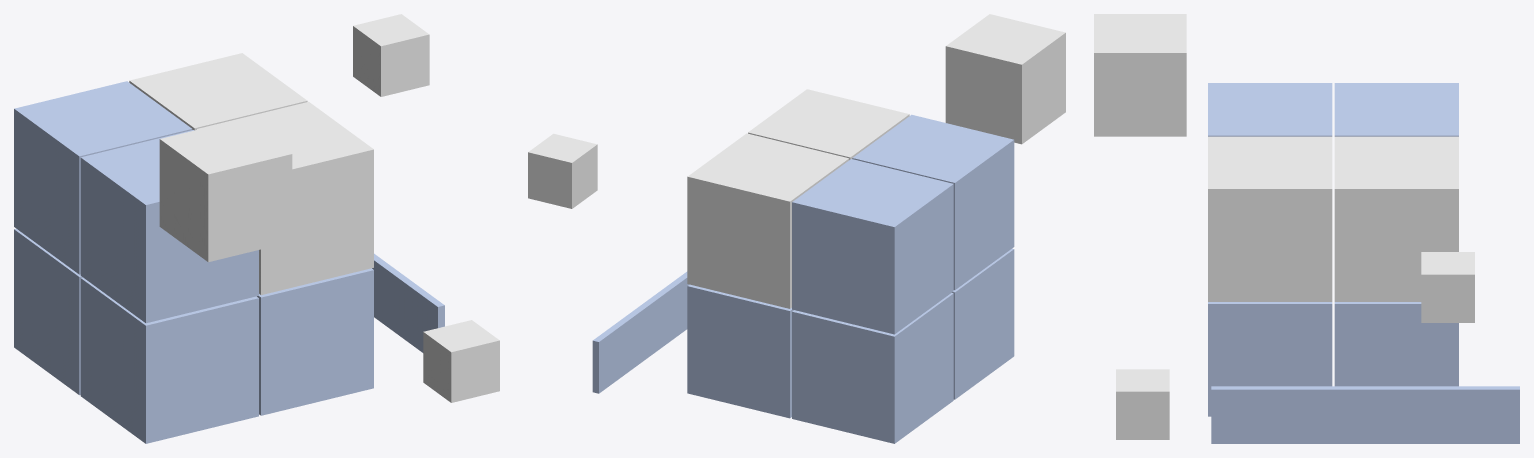
The model's file is mofang1.glb.
3 renders of one model, left to right at view 1: azimuth 30°, elevation 25°; view 2: azimuth 150°, elevation 25°; view 3: azimuth 270°, elevation 25°, orthographic. The views are drawn at different scales.
Visible parts, largest first — view 1: 立方体.004, 立方体.022, 立方体.017, 立方体.016, 立方体.018; view 2: 立方体.004, 立方体.022, 立方体.018, 立方体.016; view 3: 立方体.004, 立方体.018, 立方体.022, 立方体.016, 立方体.017.
Boxes of the visible parts, x1,y1,x2,y2 form: 立方体.004: (14,53,373,443); 立方体.022: (159,118,292,262); 立方体.017: (423,320,499,402); 立方体.016: (353,14,429,96); 立方体.018: (372,253,444,352); 立方体.004: (687,89,1014,443); 立方体.022: (945,14,1065,144); 立方体.018: (592,271,689,393); 立方体.016: (528,133,597,208); 立方体.004: (1208,83,1458,416); 立方体.018: (1211,386,1519,443); 立方体.022: (1094,14,1186,136); 立方体.016: (1421,252,1474,322); 立方体.017: (1116,369,1169,439).
Size of the model in its own units: 1.36 by 1.03 by 1.33.
